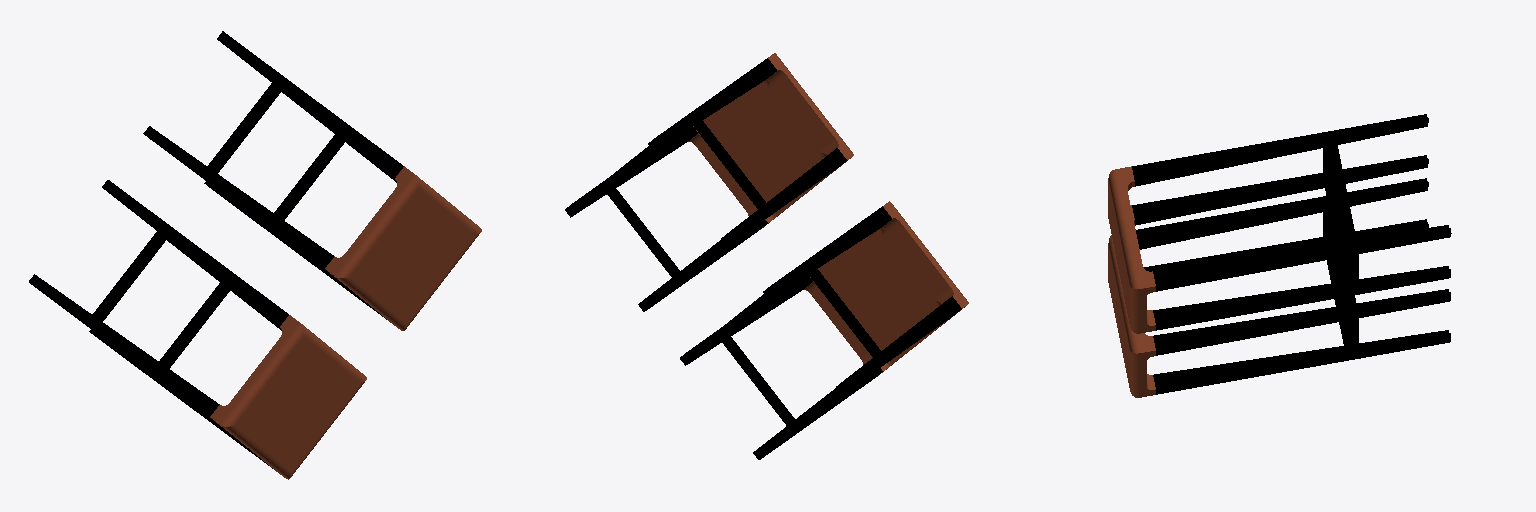
The model's file is chair.obj.
The picture shows the model from 3 angles: view 1: azimuth 30°, elevation 25°; view 2: azimuth 150°, elevation 25°; view 3: azimuth 270°, elevation 25°; orthographic projection.
Parts seen in each view (by area): view 1: Object.1, Object.2; view 2: Object.2, Object.1; view 3: Object.1, Object.2.
Boxes of the visible parts, x1,y1,x2,y2 form: Object.1: [143, 31, 481, 330]; Object.2: [29, 180, 366, 479]; Object.2: [680, 201, 968, 459]; Object.1: [565, 53, 853, 311]; Object.1: [1108, 114, 1451, 333]; Object.2: [1108, 178, 1450, 397].
Bounding box in the file's own units: 877 × 877 × 844.